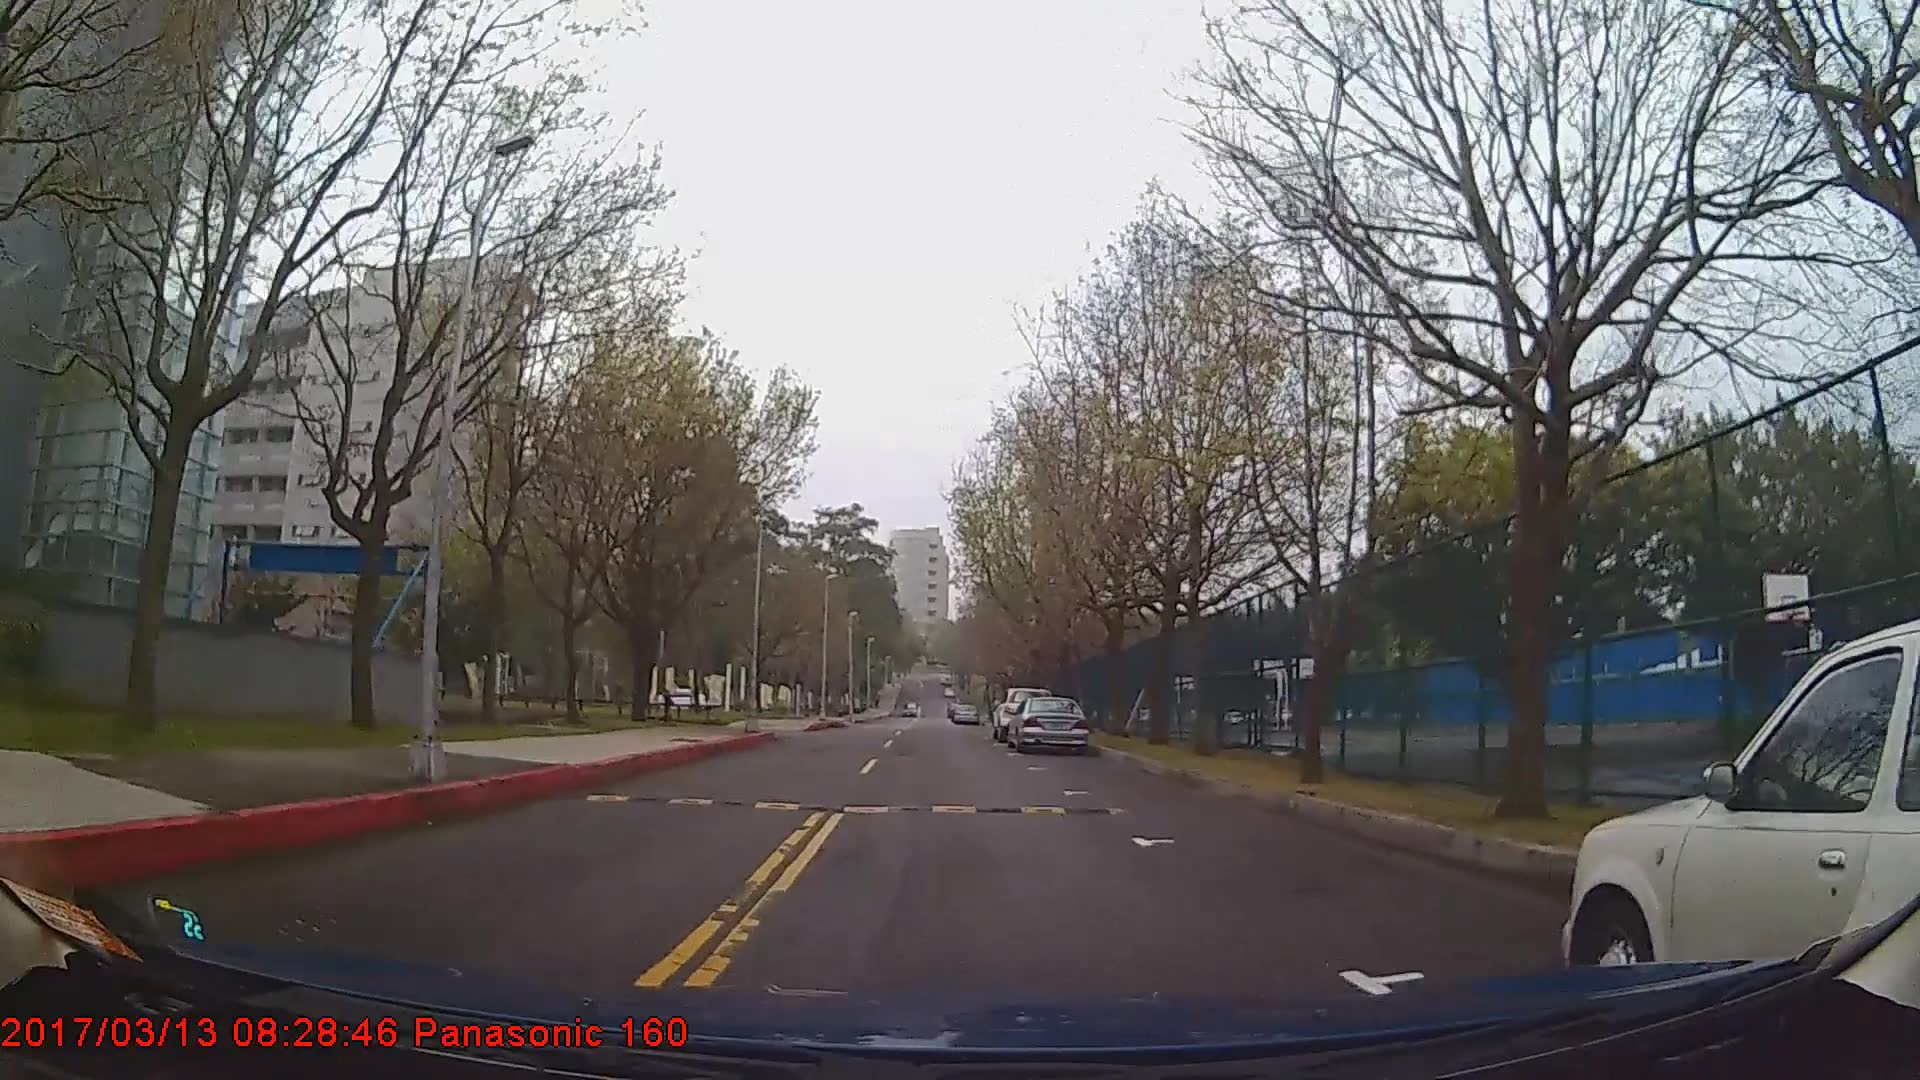vehicle: (1567, 618, 1917, 1004), (1004, 694, 1088, 752), (947, 702, 982, 727)
